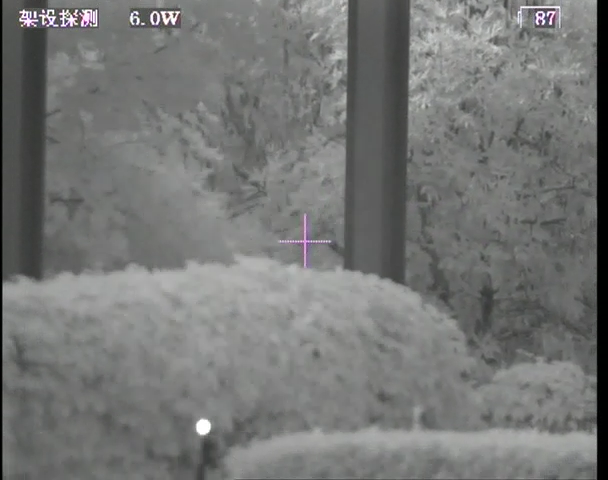my: (194, 419, 212, 438)
